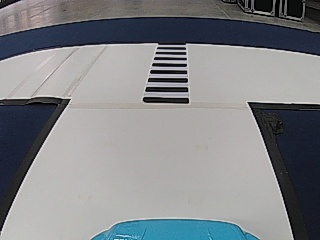CrossWalk: (141, 43, 192, 105)
